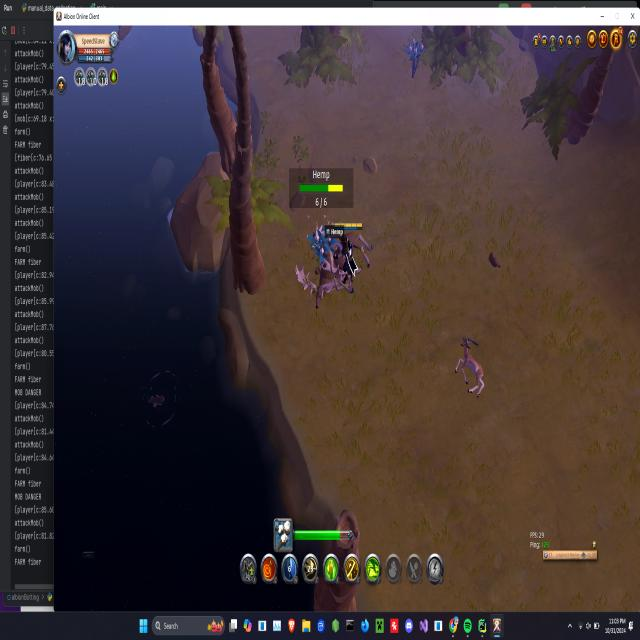hide: (309, 222, 333, 268), (405, 35, 424, 75)
mob: (310, 226, 372, 314), (452, 333, 488, 400)
red: (334, 221, 362, 284)
